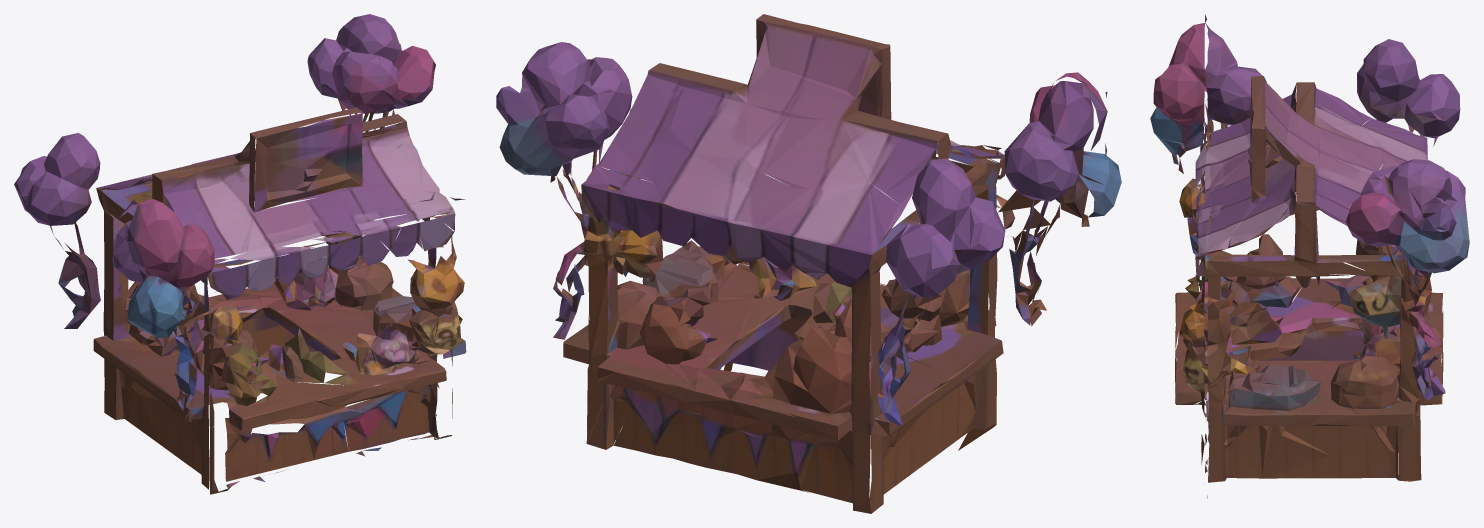
File: shop_fitil.glb
3 renders of one model, left to right at view 1: azimuth 30°, elevation 25°; view 2: azimuth 150°, elevation 25°; view 3: azimuth 270°, elevation 25°, orthographic. The views are drawn at different scales.
Parts seen in each view (by area): view 1: geometry_0; view 2: geometry_0; view 3: geometry_0.
Part boxes in pixels (x1,y1,x2,y2): geometry_0: [14, 14, 466, 494]; geometry_0: [496, 14, 1121, 513]; geometry_0: [1150, 14, 1469, 498].
Size of the model in its own units: 2 by 1.72 by 1.37.
Materials: 1 (1 with a texture image).
